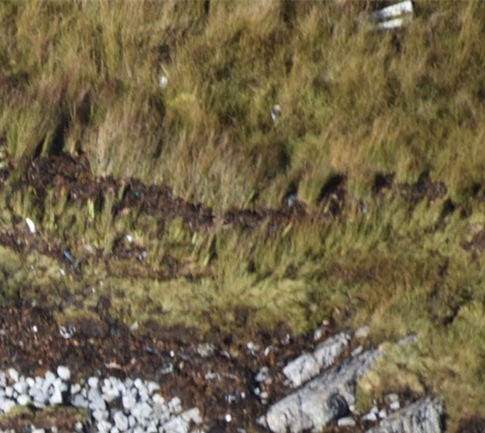cuboid: (361, 1, 430, 32)
white_in_green: (9, 203, 56, 250), (139, 59, 186, 106), (251, 88, 298, 135)
